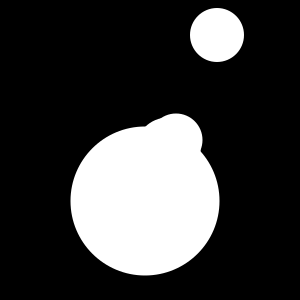rectangle: (70, 127, 220, 276), (136, 118, 201, 183), (190, 8, 244, 62), (150, 114, 202, 167)
